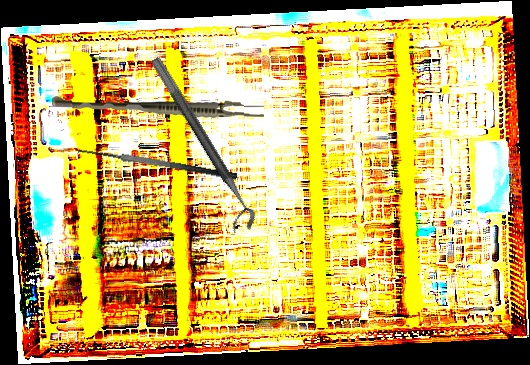Fixation Ring: (135, 55, 262, 238)
Spatula Surgical: (75, 141, 238, 195)
Tissue Forceps: (51, 96, 265, 119)
